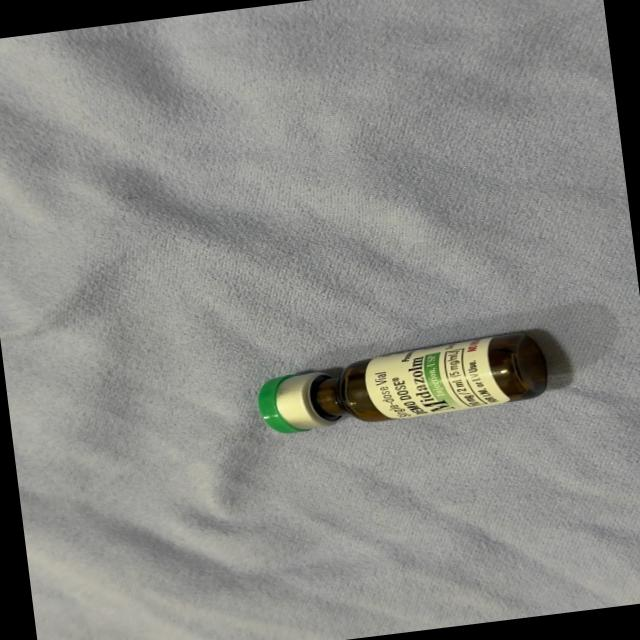midazolm: (258, 330, 546, 434)
